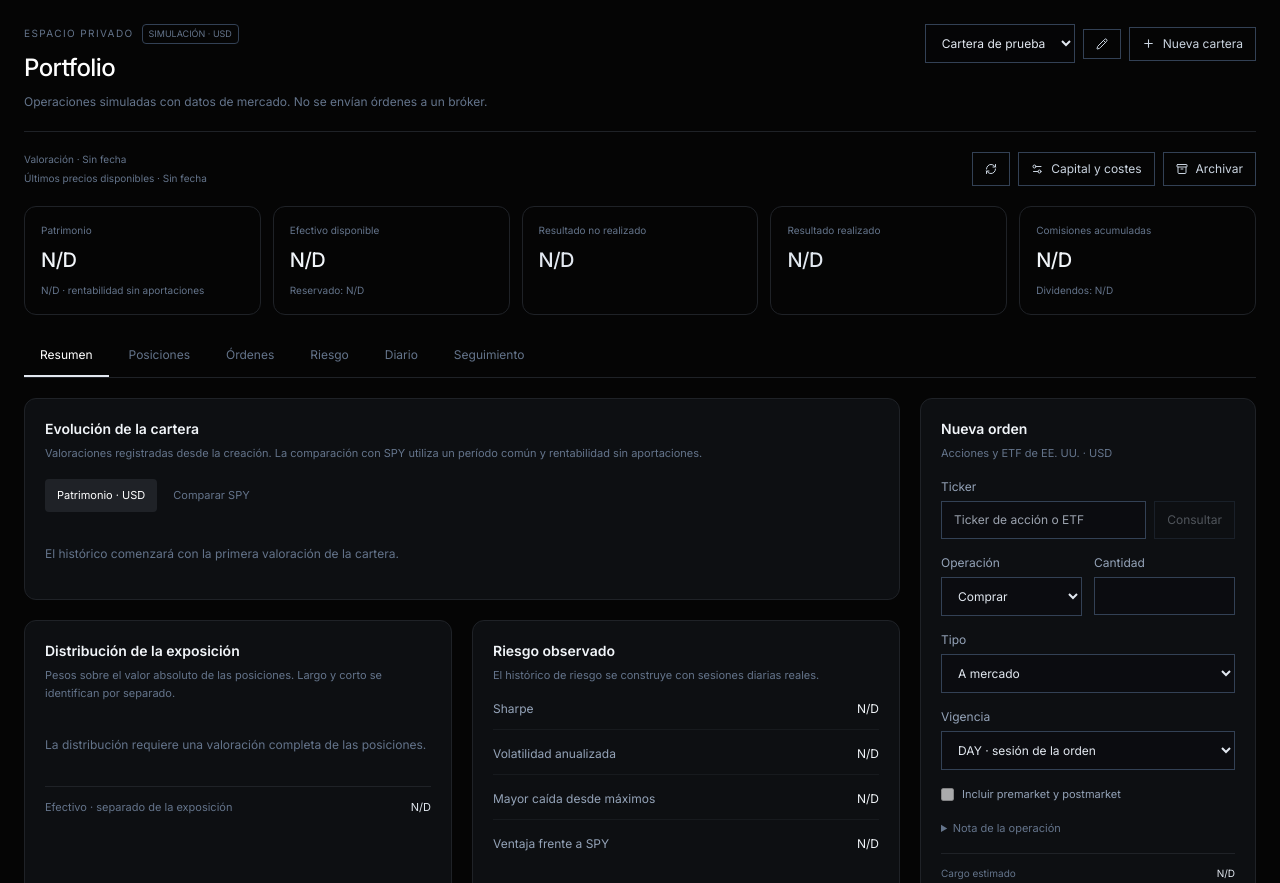
Test: reviews a dated quote and explicit confirmation before submitting once under repeated clicks
Check: the heading "Nueva orden" is shown, box [941, 420, 1027, 437]
Type "AAPL" into the field named "Ticker para operar" at point(1044, 520), box [941, 501, 1146, 539]
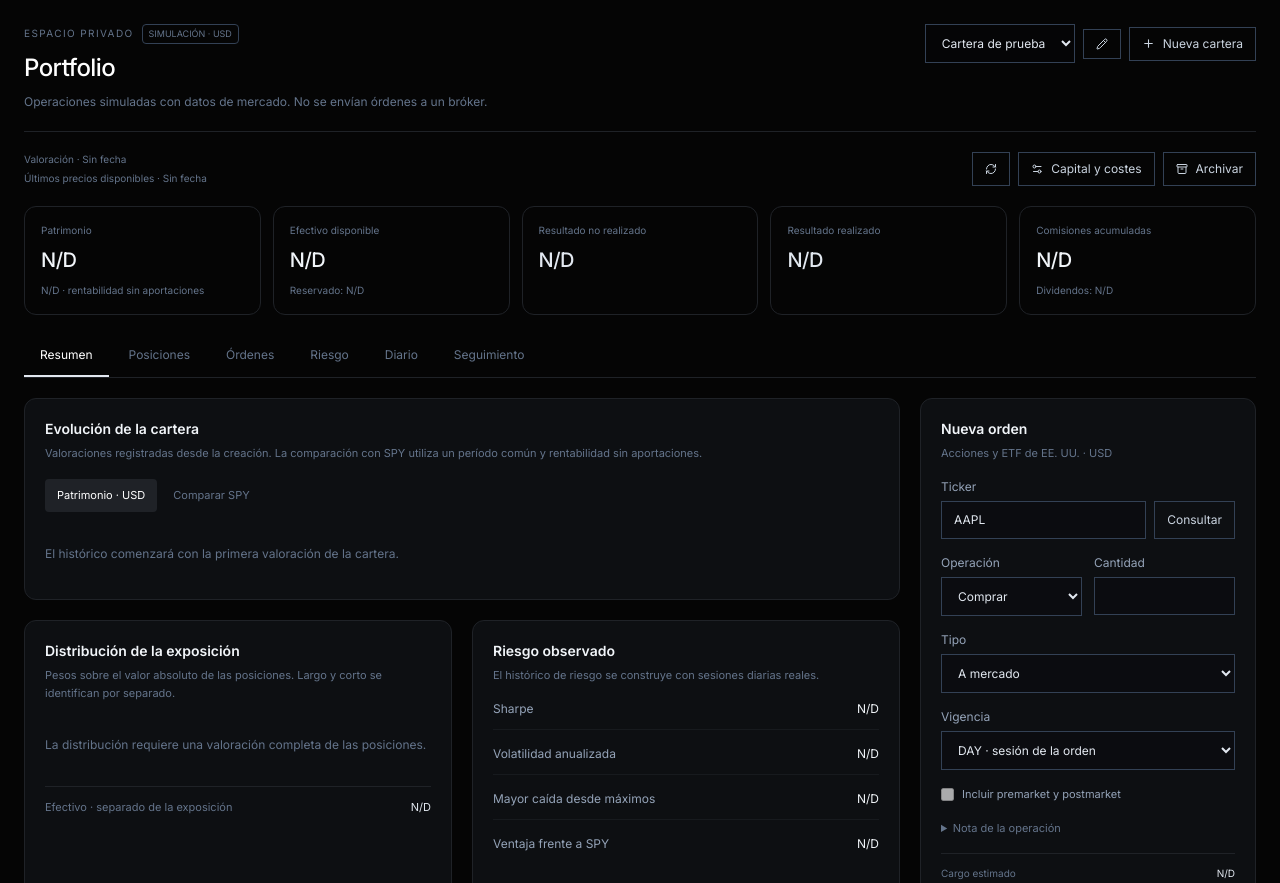
Click the button "Consultar" at point(1195, 520), box [1154, 501, 1235, 539]
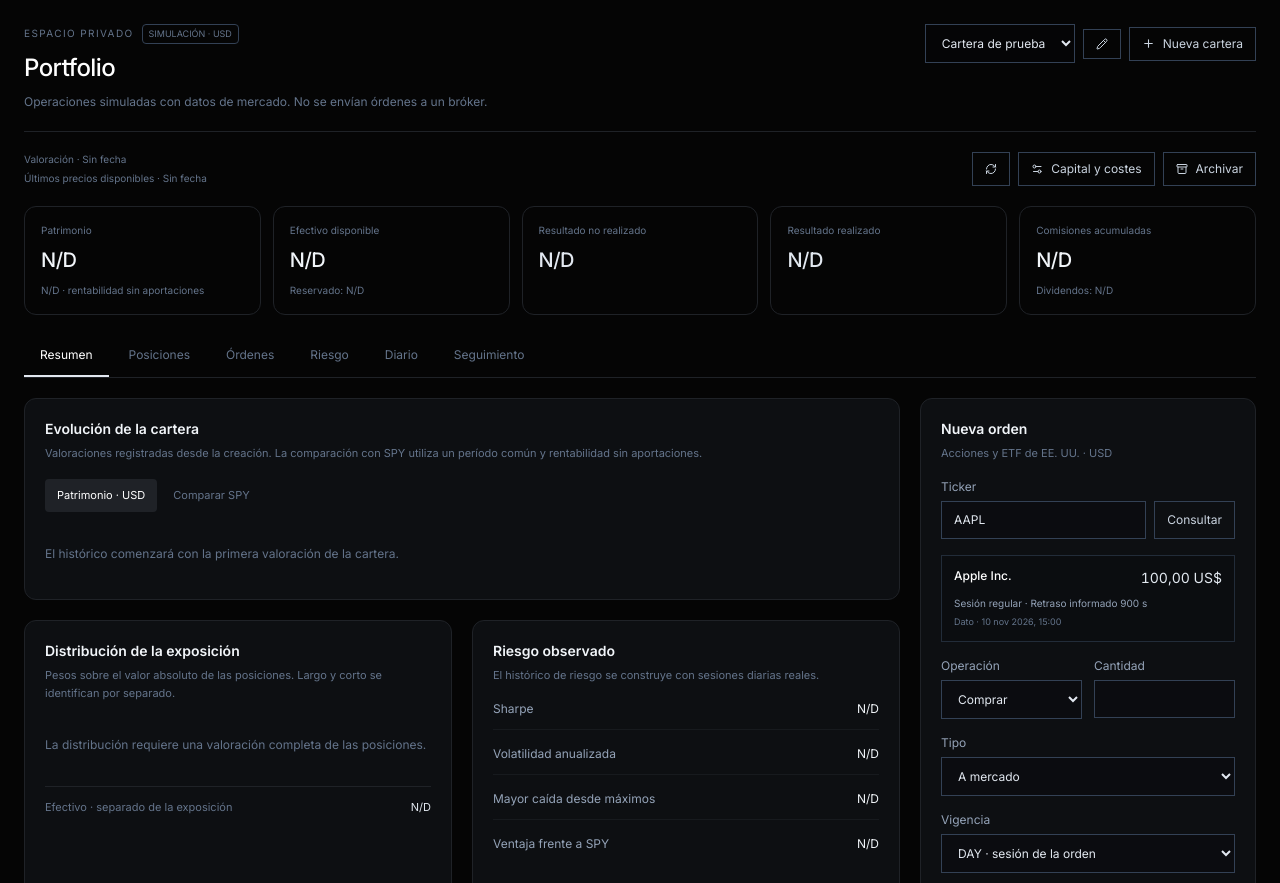
Check: the text "Apple Inc." is shown, box [954, 568, 1012, 584]
Type "2" into the number field named "Cantidad de la orden" at point(1164, 699), box [1094, 680, 1235, 718]
(page scrolled)
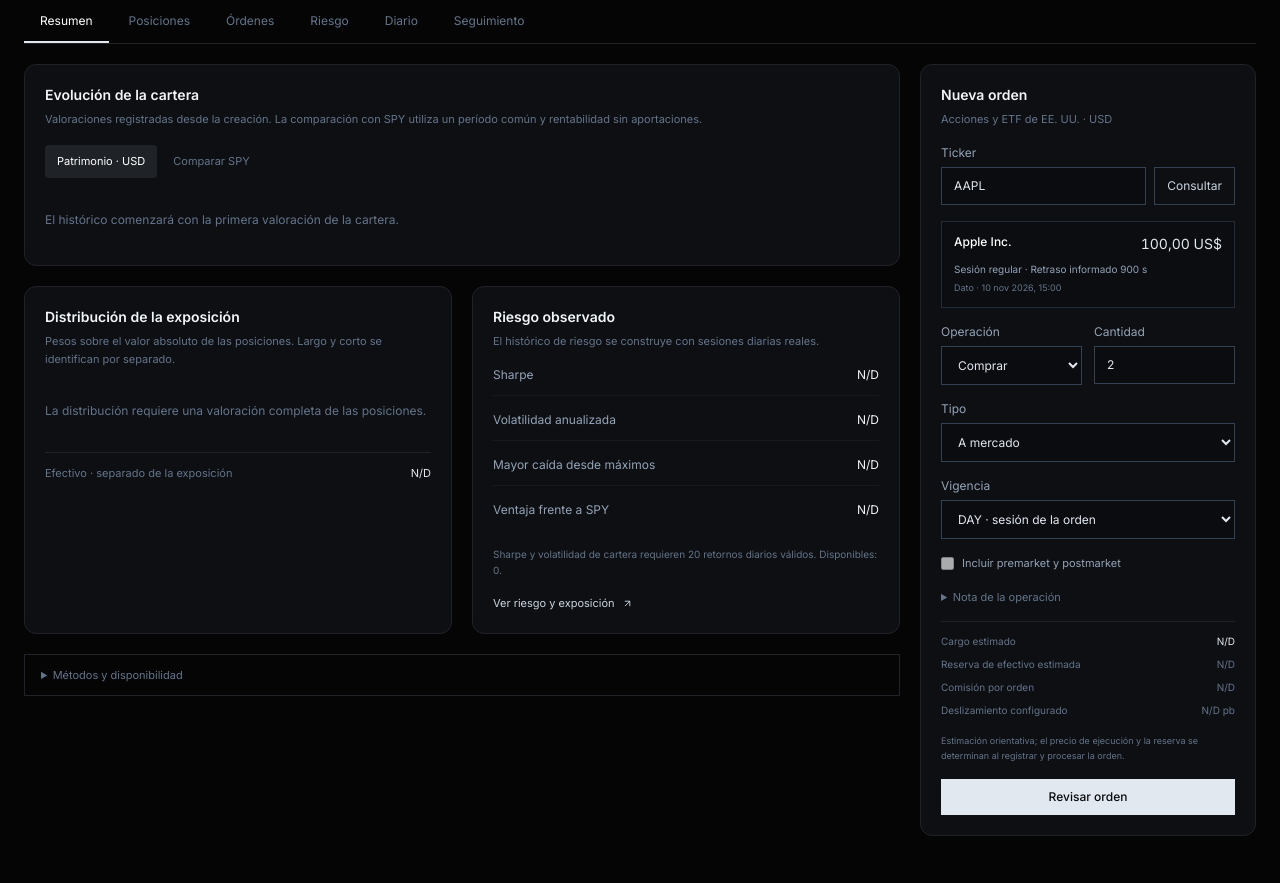
Click the button "Revisar orden" at point(1088, 797), box [941, 779, 1235, 815]
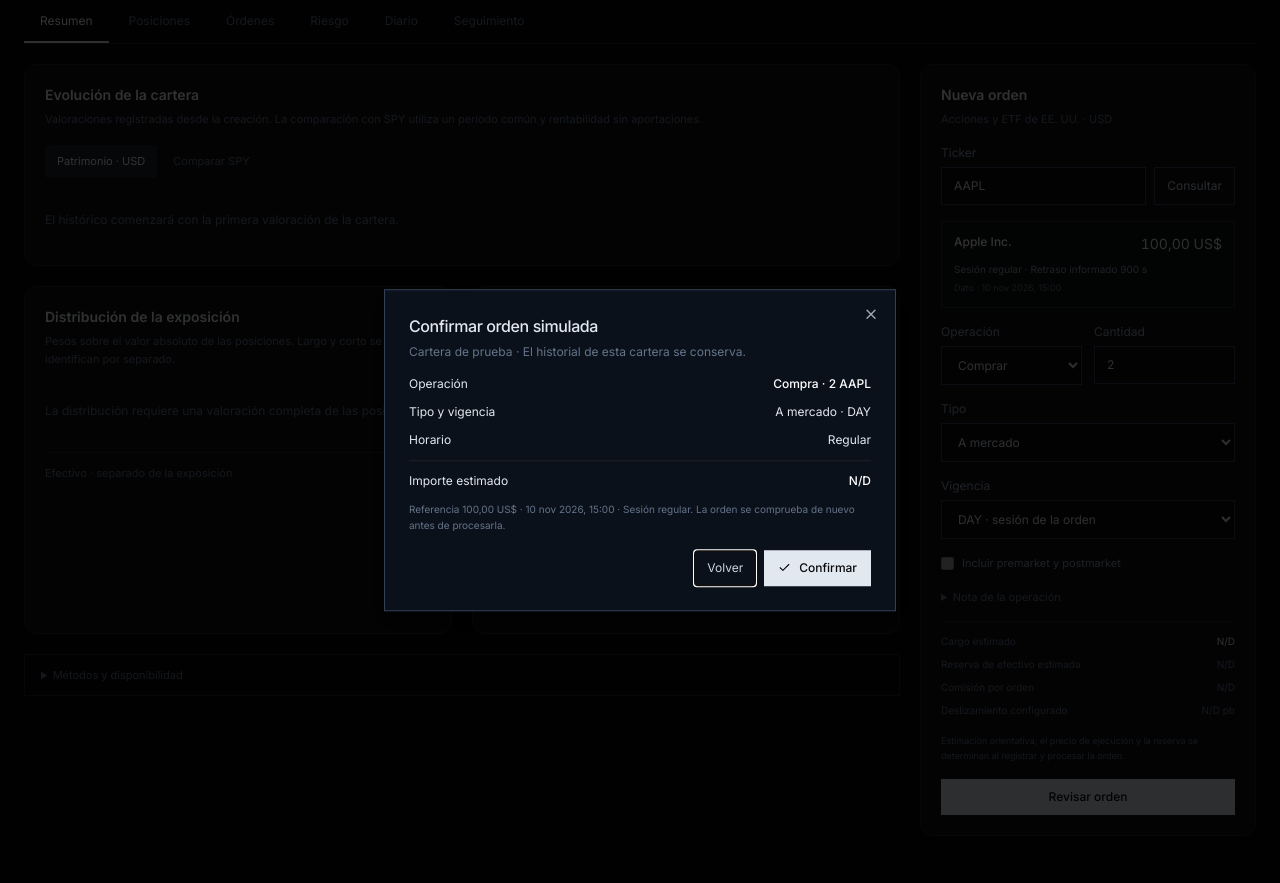
Check: the text "Compra · 2 AAPL" is shown, box [773, 376, 871, 392]
Check: the text "Sesión regular" is shown, box [623, 503, 690, 515]
Click the button "Confirmar" at point(818, 568), box [764, 550, 871, 586]
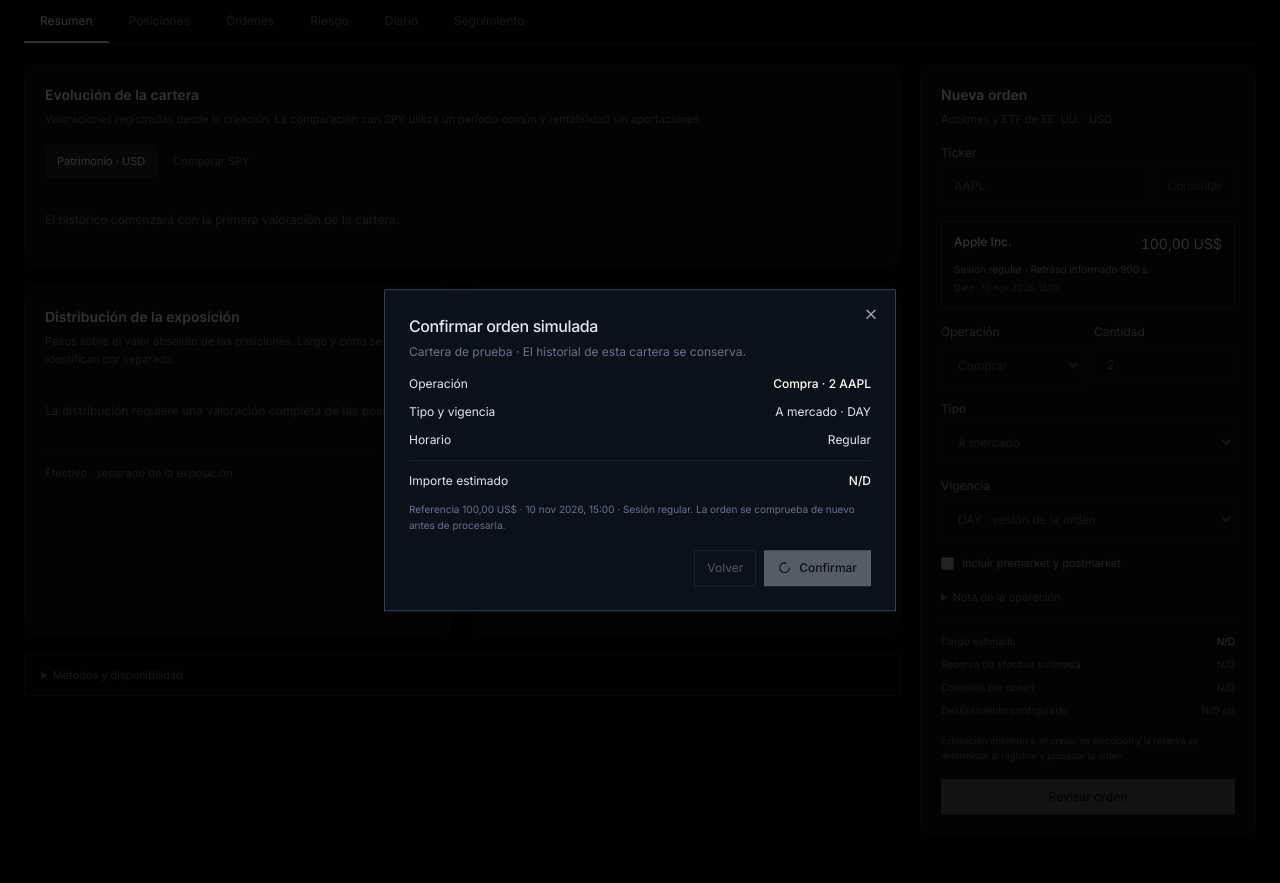
Click the button "Confirmar" at point(818, 568), box [764, 550, 871, 586]
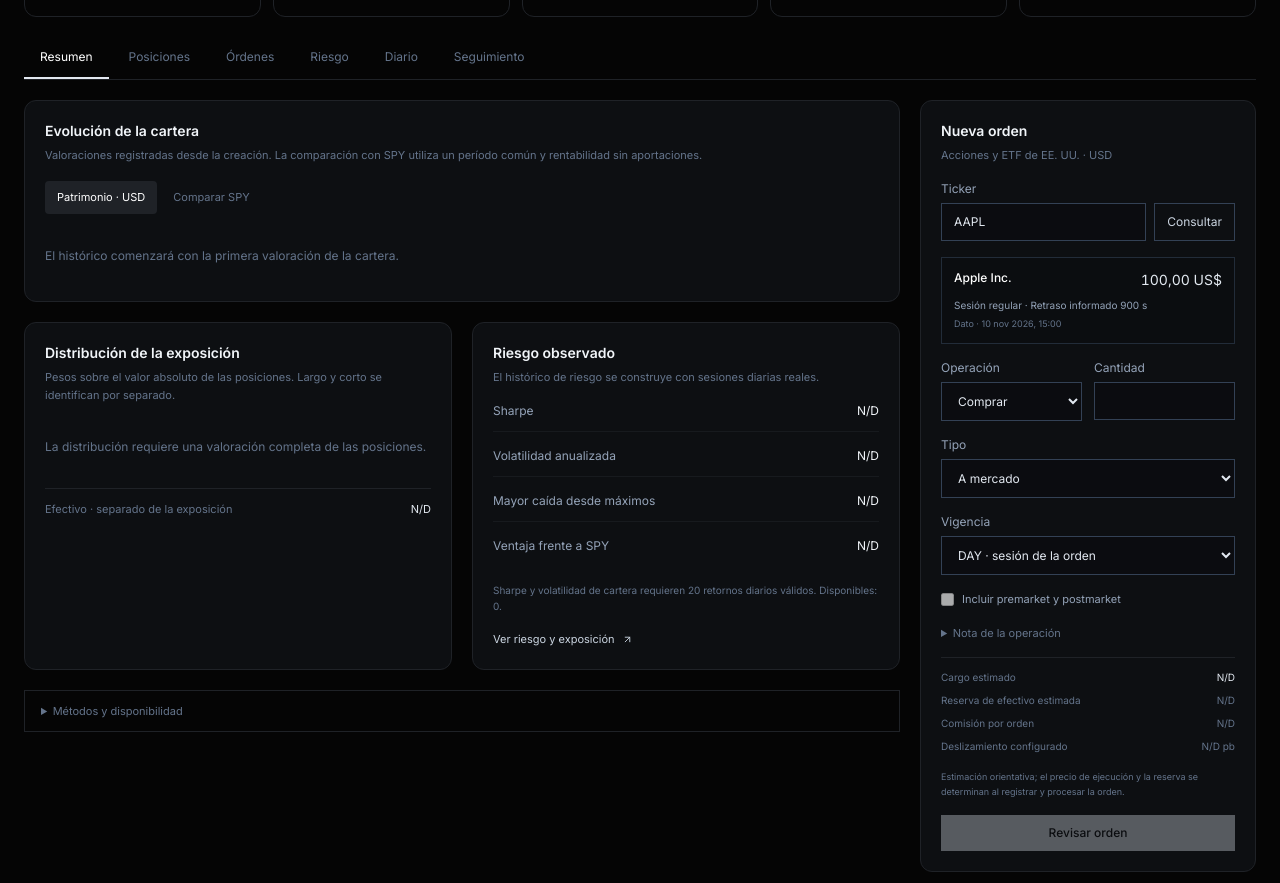
Check: the dialog is gone
